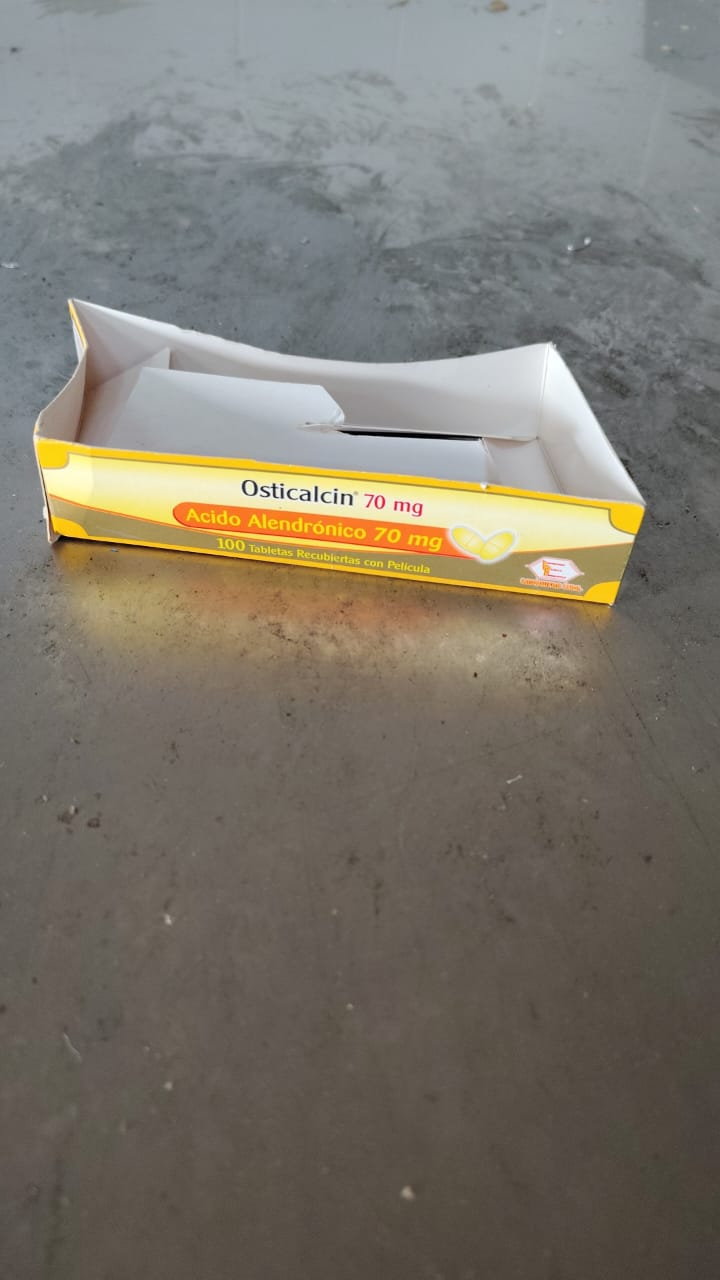Carton: (36, 298, 648, 611)
